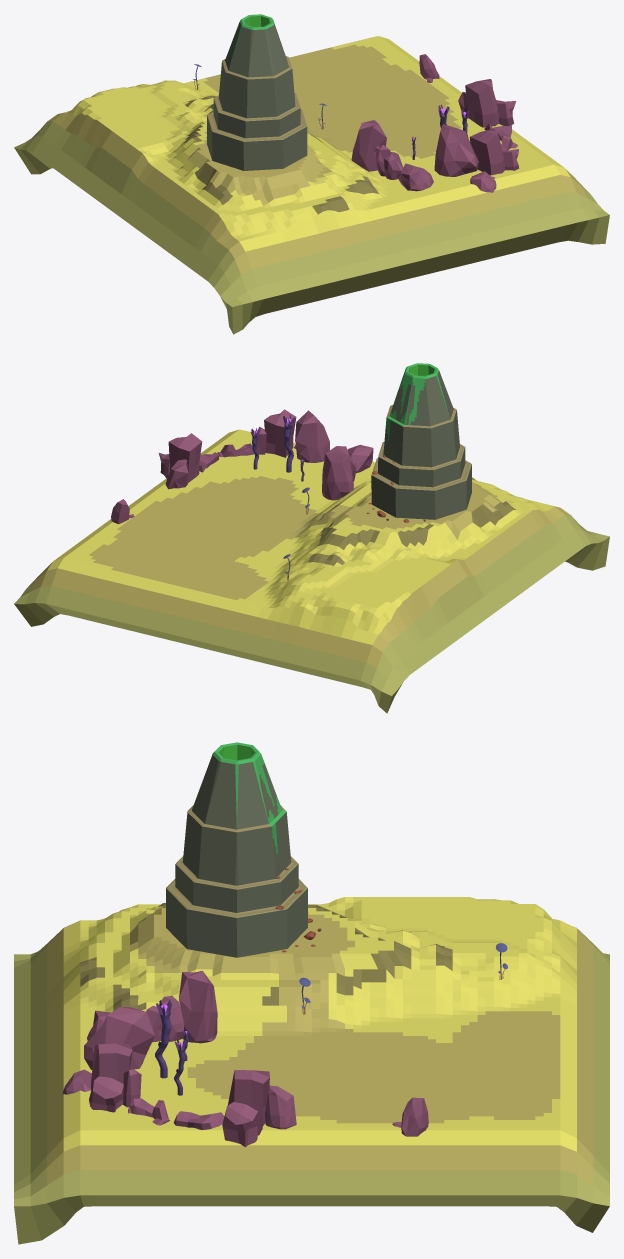
File: map1.fbx
3 renders of one model, top to bottom at view 1: azimuth 30°, elevation 25°; view 2: azimuth 150°, elevation 25°; view 3: azimuth 270°, elevation 25°, orthographic. The views are drawn at different scales.
Parts seen in each view (by area): view 1: Icosphere.012; view 2: Icosphere.012; view 3: Icosphere.012.
Boxes of the visible parts, x1=… form: Icosphere.012: x1=14, y1=14, x2=609, y2=334; Icosphere.012: x1=14, y1=363, x2=609, y2=713; Icosphere.012: x1=14, y1=742, x2=609, y2=1244.
Size of the model in its own units: 4333 by 2517 by 4333.
